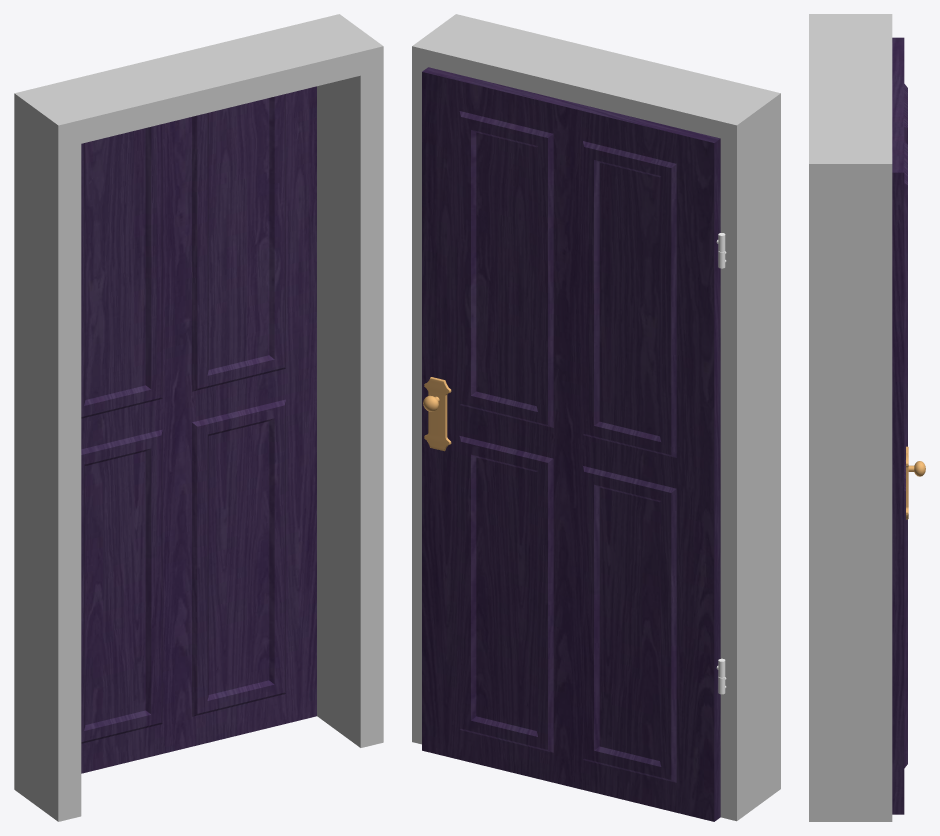
Rendered from first door.fbx.
3 views of the same model, side by side, from view 1: azimuth 30°, elevation 25°; view 2: azimuth 150°, elevation 25°; view 3: azimuth 270°, elevation 25° (orthographic). The views are drawn at different scales.
Visible parts, largest first — view 1: door 1, door 1 frame; view 2: door 1, door 1 frame, door 1 handle; view 3: door 1 frame, door 1, door 1 handle.
Part boxes in pixels (box(x1,y1,x2,y2)): door 1: box(81, 86, 316, 773); door 1 frame: box(14, 14, 383, 821); door 1: box(422, 67, 725, 821); door 1 frame: box(412, 14, 780, 821); door 1 handle: box(423, 377, 451, 451); door 1 frame: box(809, 14, 892, 821); door 1: box(892, 37, 907, 814); door 1 handle: box(906, 446, 925, 519).
Bounding box in the file's own units: 99.97 × 205 × 32.94.
